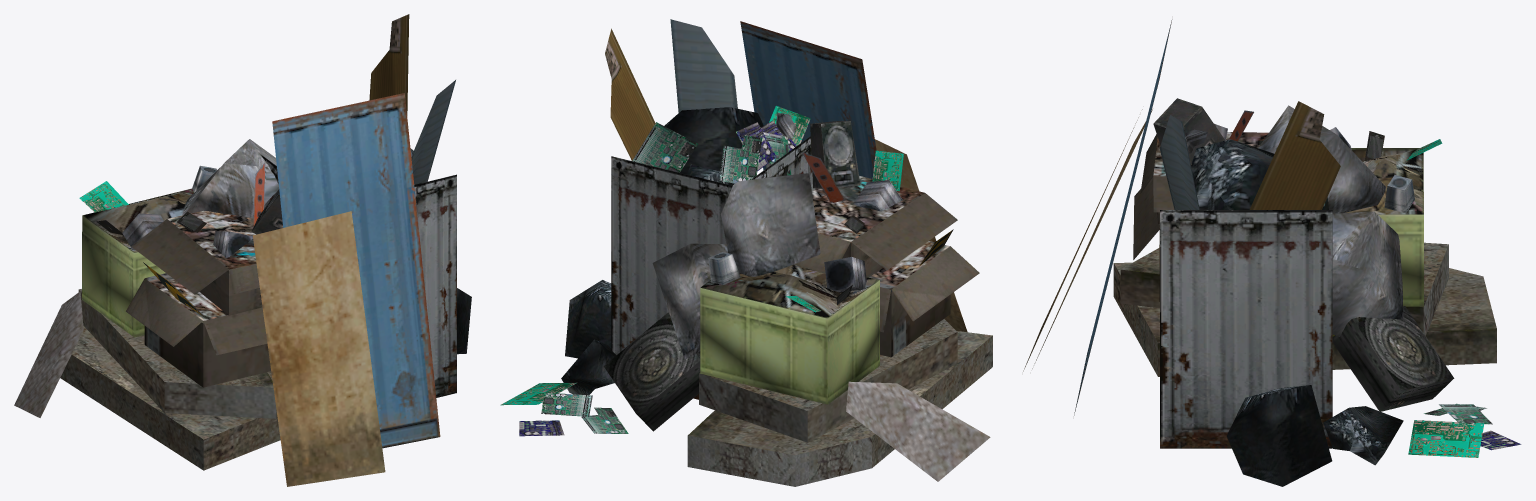
The model's file is Prop_Garbage01_v2_lod2.glb.
3 renders of one model, left to right at view 1: azimuth 30°, elevation 25°; view 2: azimuth 150°, elevation 25°; view 3: azimuth 270°, elevation 25°, orthographic. The views are drawn at different scales.
Visible parts, largest first — view 1: garbage_01_lod2; view 2: garbage_01_lod2; view 3: garbage_01_lod2.
Boxes of the visible parts, x1,y1,x2,y2 form: garbage_01_lod2: [14, 14, 471, 486]; garbage_01_lod2: [500, 19, 992, 486]; garbage_01_lod2: [1023, 19, 1521, 486].
Bounding box in the file's own units: 2.98 × 2.25 × 2.8.
1 material, 1 textured.
